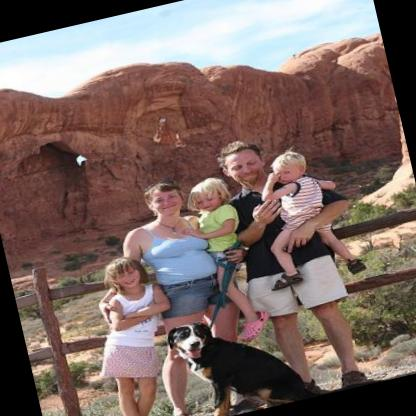Greater_Swiss_Mountain_dog: (159, 281, 384, 416)
